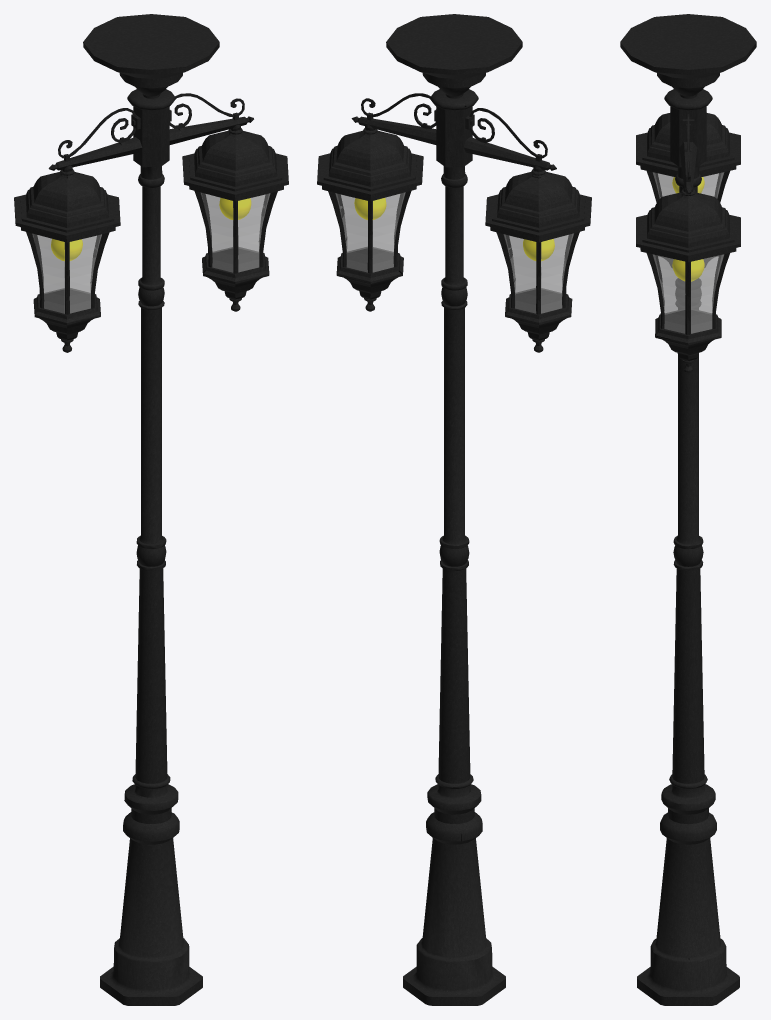
File: Lamppost.fbx
The picture shows the model from 3 angles, left to right: view 1: azimuth 30°, elevation 25°; view 2: azimuth 150°, elevation 25°; view 3: azimuth 270°, elevation 25°; orthographic projection.
Parts seen in each view (by area): view 1: Lamppost; view 2: Lamppost; view 3: Lamppost.
Boxes of the visible parts, bbox=[...] form: Lamppost: bbox=[14, 14, 288, 1005]; Lamppost: bbox=[317, 14, 591, 1005]; Lamppost: bbox=[620, 14, 756, 1005].
Bounding box in the file's own units: 3.16 × 1.38 × 10.5.
